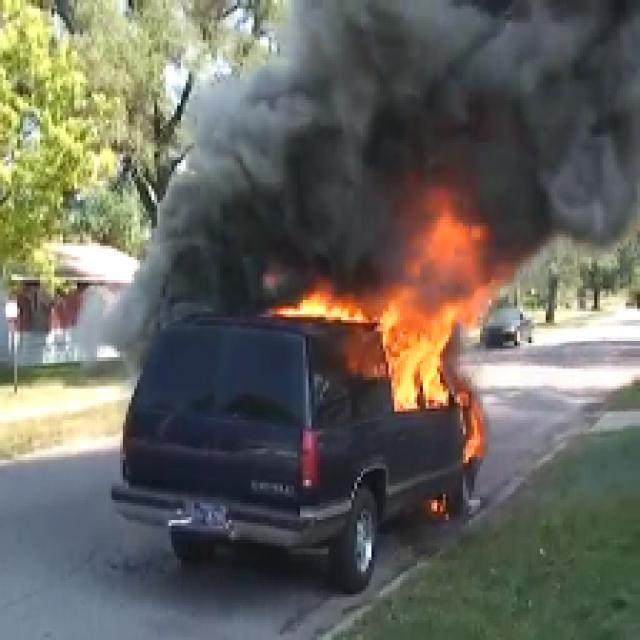Fire: (383, 223, 482, 420), (280, 286, 380, 330)
Smoke: (283, 0, 640, 217), (140, 118, 279, 312)
